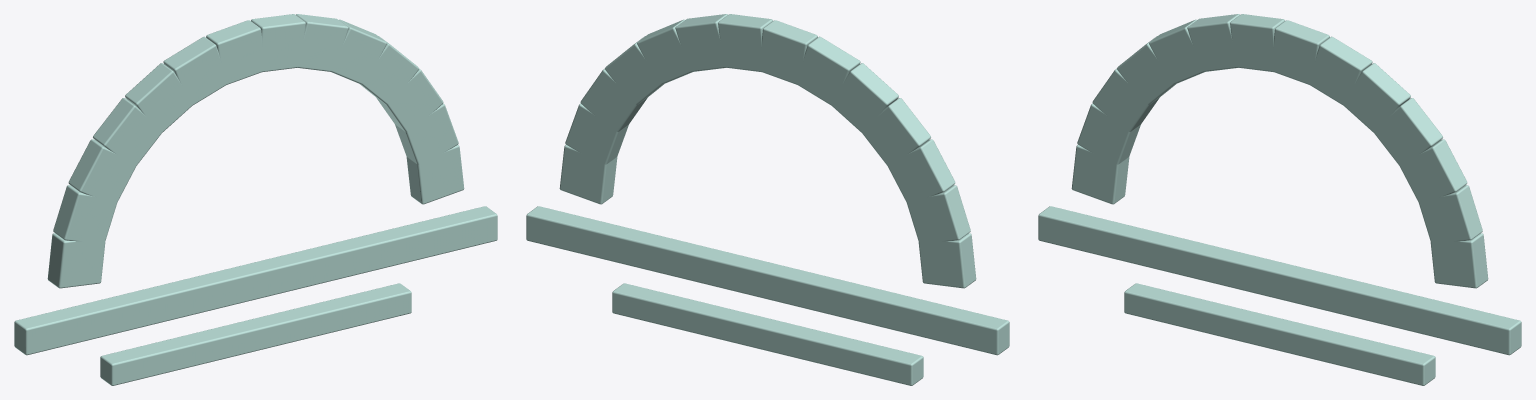
The model's file is SM_HalcyonSign.fbx.
3 renders of one model, left to right at view 1: azimuth 30°, elevation 25°; view 2: azimuth 150°, elevation 25°; view 3: azimuth 330°, elevation 25°, orthographic.
Parts seen in each view (by area): view 1: SM_HalcyonSign; view 2: SM_HalcyonSign; view 3: SM_HalcyonSign.
Part boxes in pixels (x1,y1,x2,y2): SM_HalcyonSign: (14, 14, 497, 385); SM_HalcyonSign: (526, 14, 1009, 385); SM_HalcyonSign: (1038, 14, 1521, 385).
Size of the model in its own units: 1.1 by 0.7174 by 0.05.
